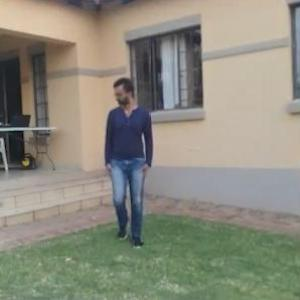follow: (100, 72, 151, 252)
